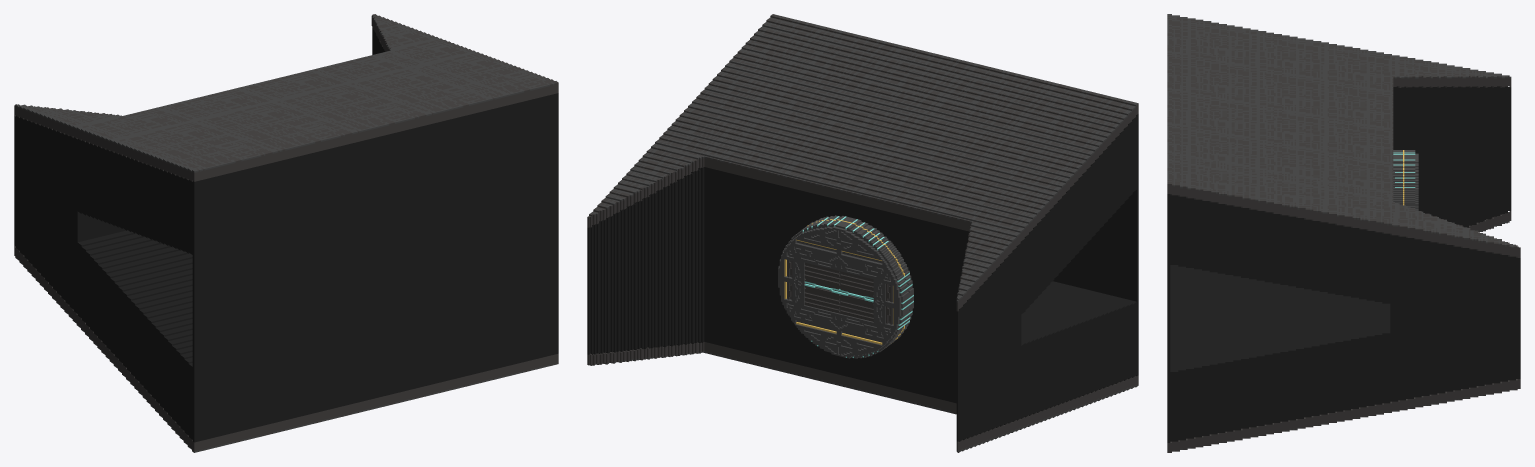
The model's file is Space ship-10.obj.
3 renders of one model, left to right at view 1: azimuth 30°, elevation 25°; view 2: azimuth 150°, elevation 25°; view 3: azimuth 270°, elevation 25°, orthographic. The views are drawn at different scales.
Size of the model in its own units: 25.6 by 18.9 by 22.5.
1 material, 1 textured.
